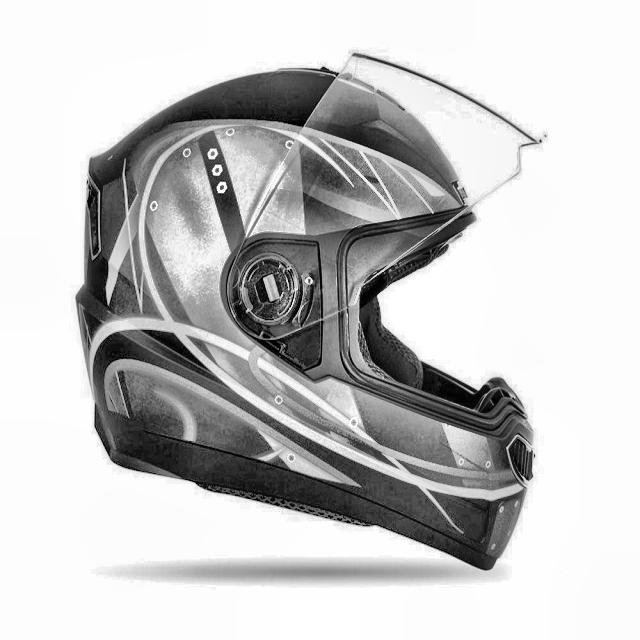Helmet: (70, 46, 564, 584)
